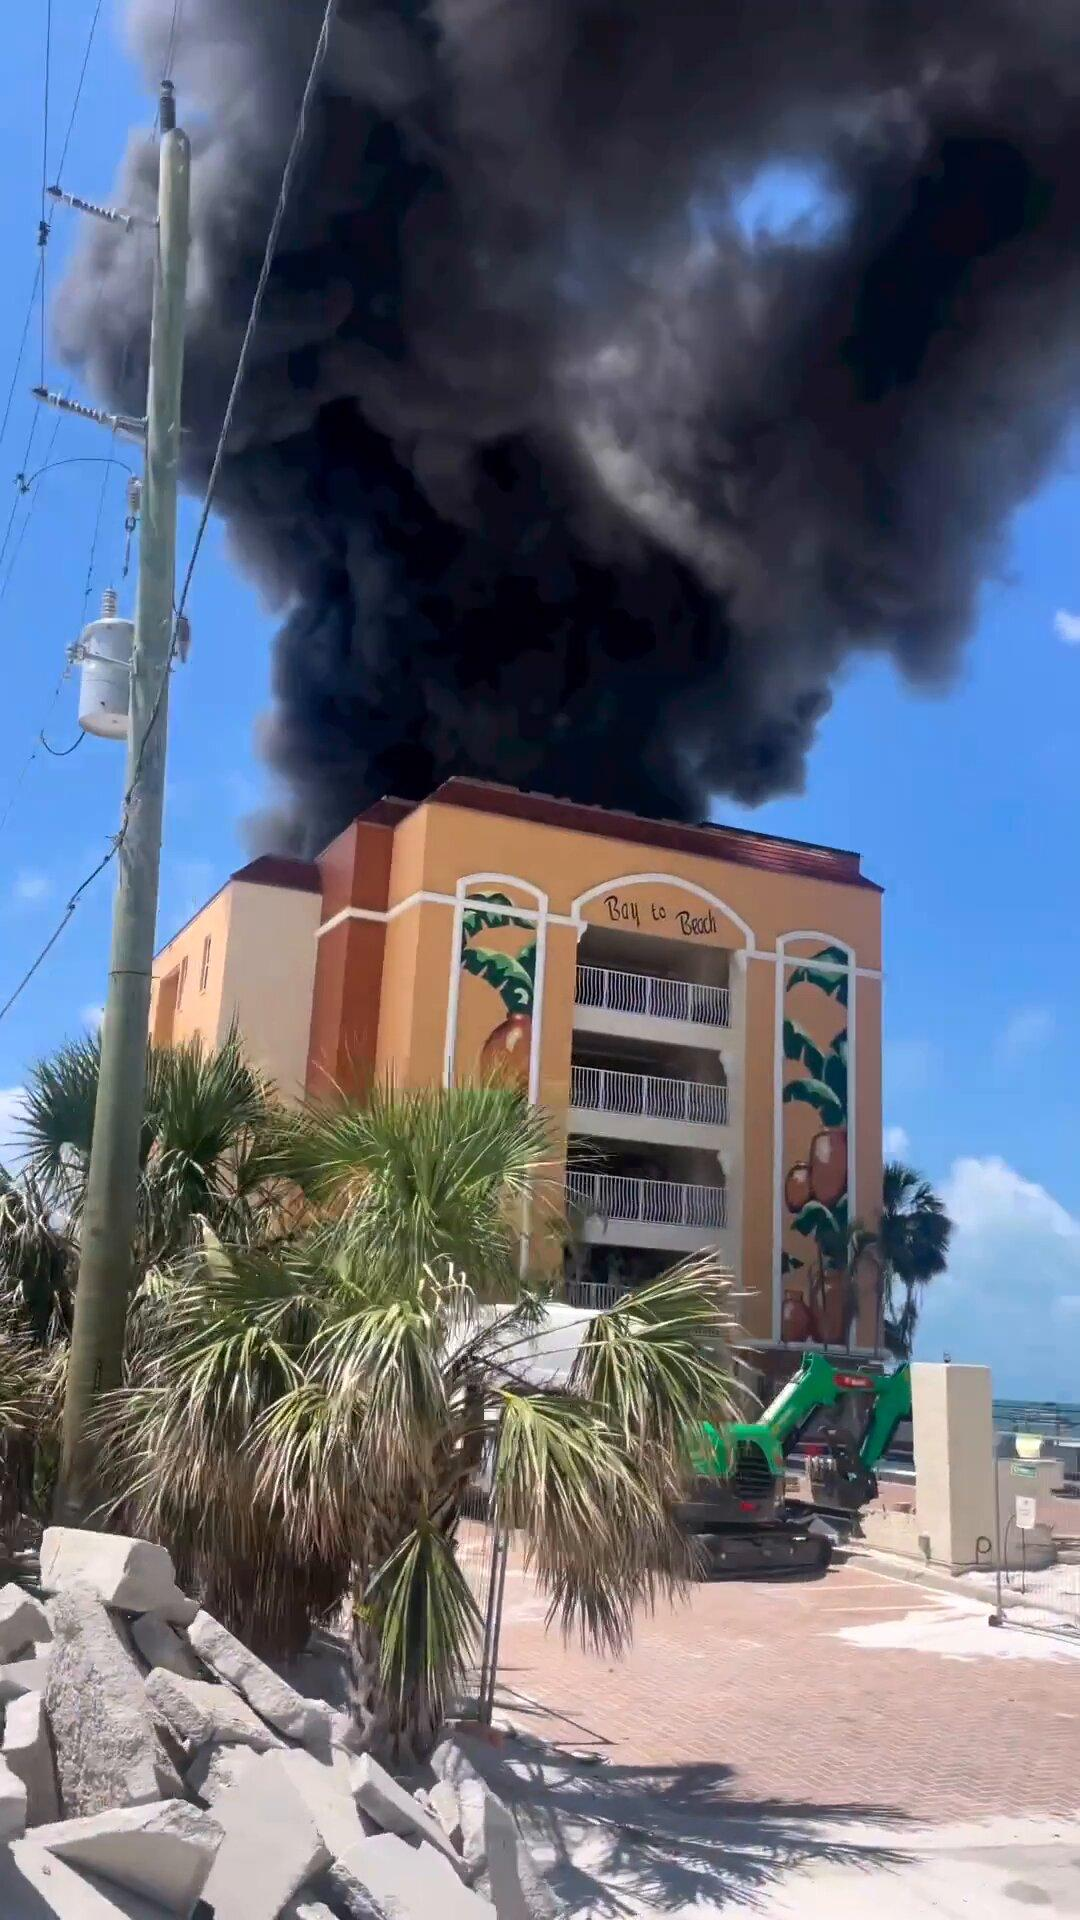smoke: (220, 20, 947, 753)
